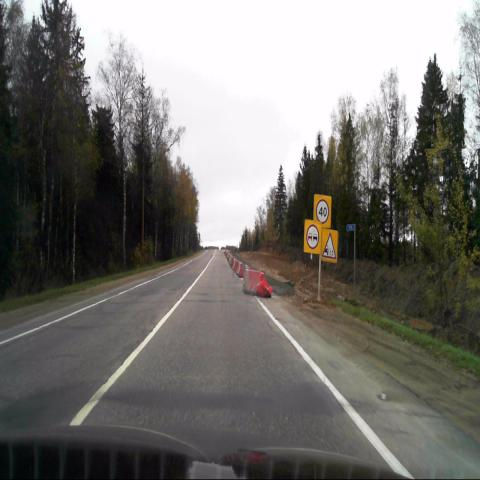1_18: (321, 229, 337, 263)
